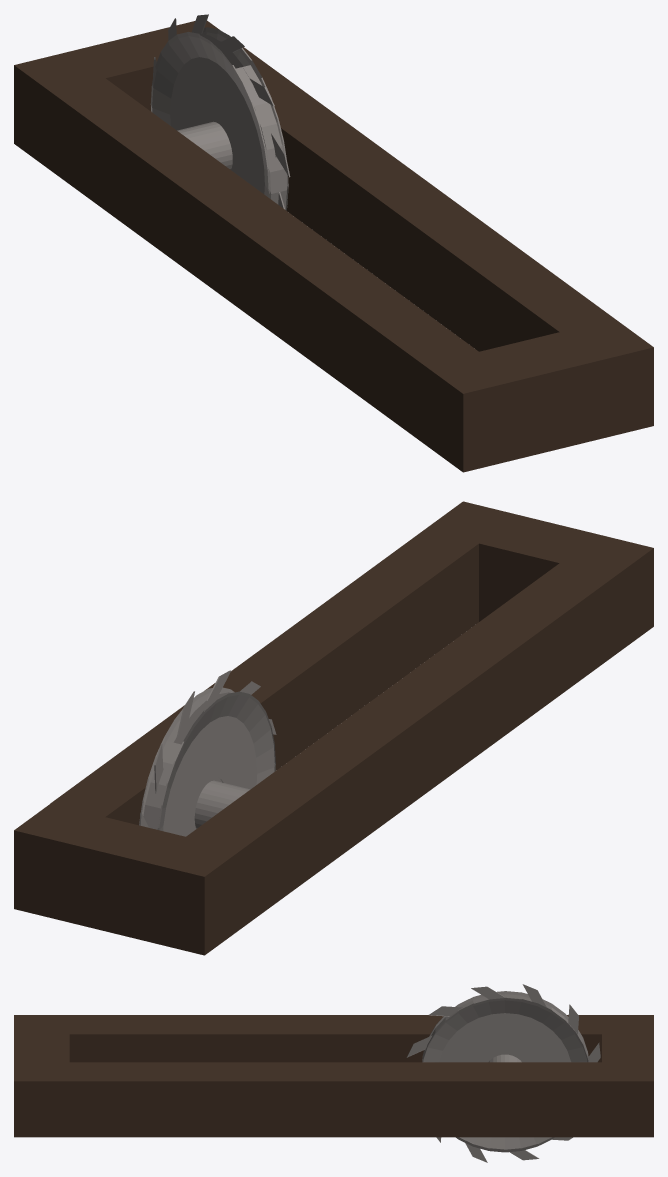
Rendered from ebATpILA_ (1).fbx.
3 views of the same model, one above another, from view 1: azimuth 30°, elevation 25°; view 2: azimuth 150°, elevation 25°; view 3: azimuth 270°, elevation 25° (orthographic). The views are drawn at different scales.
Visible parts, largest first — view 1: Cube, Cylinder.001; view 2: Cube, Cylinder.001; view 3: Cube, Cylinder.001.
Boxes of the visible parts, x1,y1,x2,y2 form: Cube: (14,20,653,472); Cylinder.001: (150,14,290,210); Cube: (14,501,653,955); Cylinder.001: (139,670,276,836); Cube: (14,1015,653,1137); Cylinder.001: (406,984,600,1162).
Size of the model in its own units: 187 by 235 by 763.
